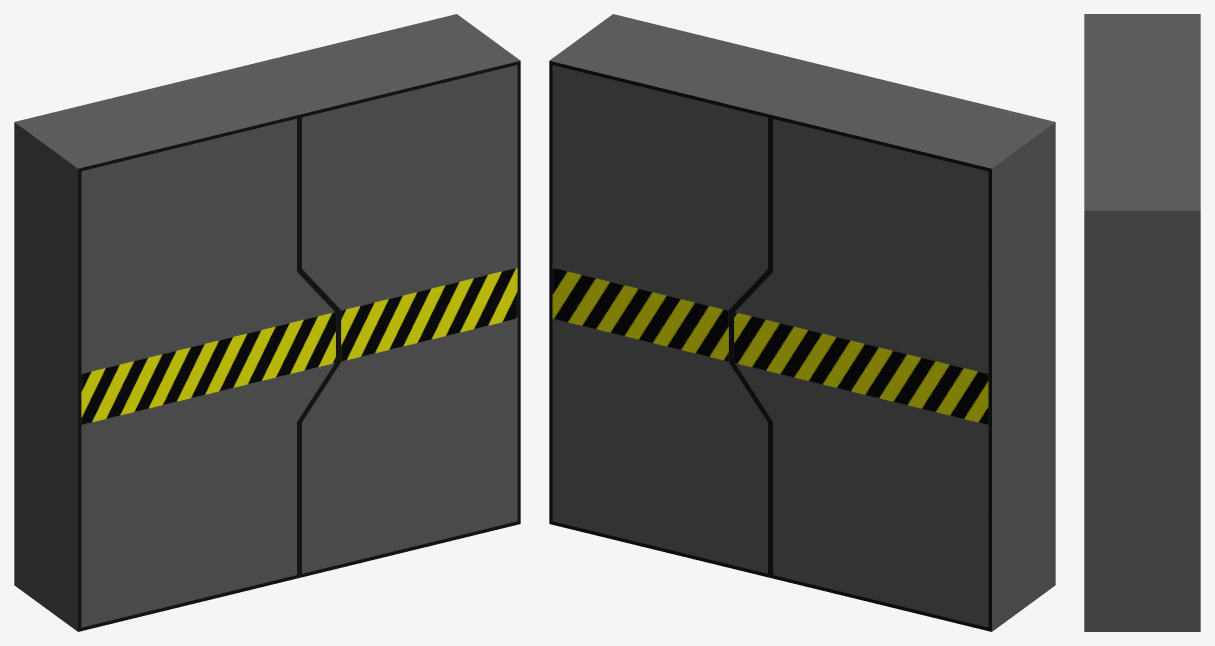
Rendered from porta.glb.
The picture shows the model from 3 angles, left to right: view 1: azimuth 30°, elevation 25°; view 2: azimuth 150°, elevation 25°; view 3: azimuth 270°, elevation 25°; orthographic projection. The views are drawn at different scales.
Visible parts, largest first — view 1: porta; view 2: porta; view 3: porta.
Part boxes in pixels (x1=…): porta: x1=14, y1=14, x2=520, y2=631; porta: x1=549, y1=14, x2=1055, y2=631; porta: x1=1084, y1=14, x2=1200, y2=631.
Size of the model in its own units: 3 by 3 by 0.75.
Materials: 1 (1 with a texture image).
